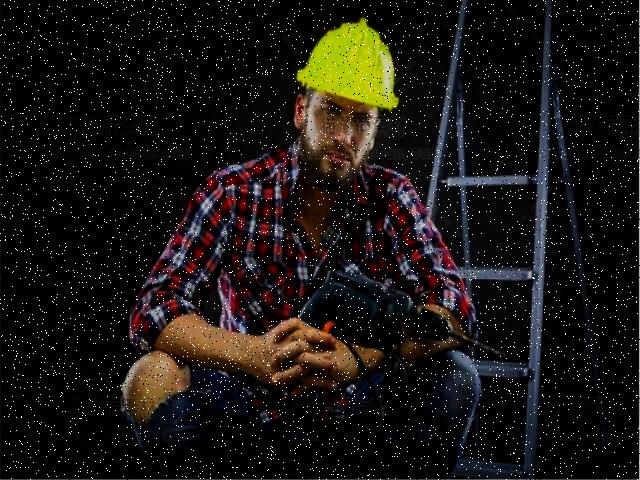Helmet: (291, 12, 405, 116)
